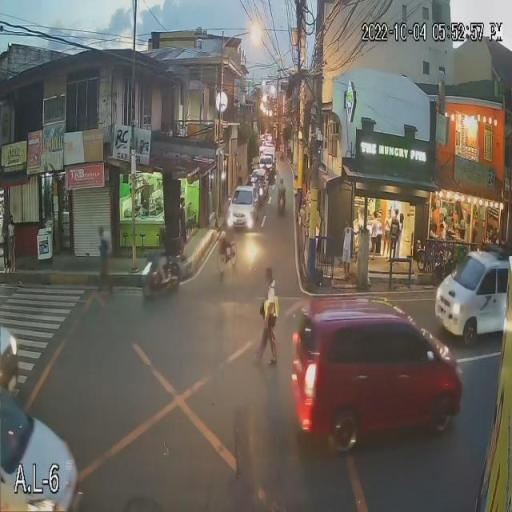motorcycle: (137, 252, 187, 295)
